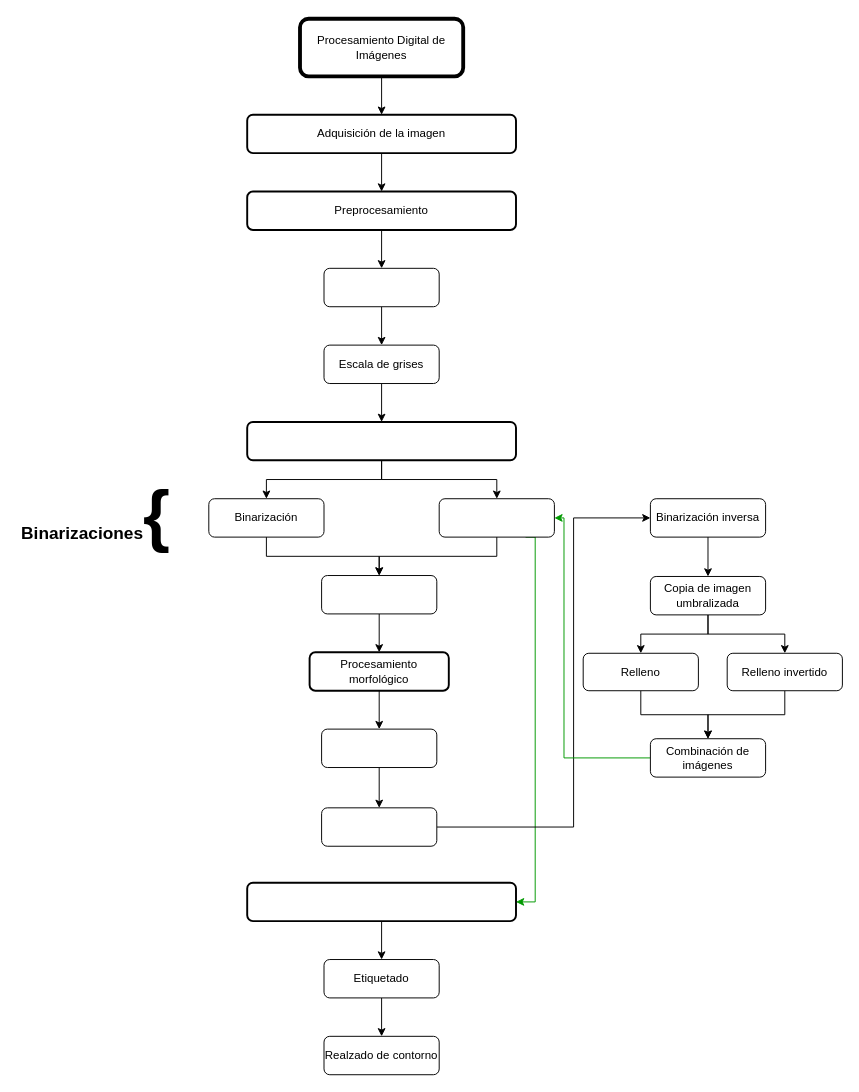
This 859x1092 diagram has some shape labels left out. The box of each missing label's shape, as (x1, y1, x2, y2) in pixels:
Binarización de Otsu: (438, 498, 554, 537)
Detección de bordes: (321, 575, 437, 614)
Dilatación: (321, 728, 437, 768)
Reducción de ruido: (323, 267, 439, 307)
Regiones: (246, 881, 516, 922)
Segmentación: (246, 420, 516, 461)
Umbralización: (321, 807, 437, 846)
